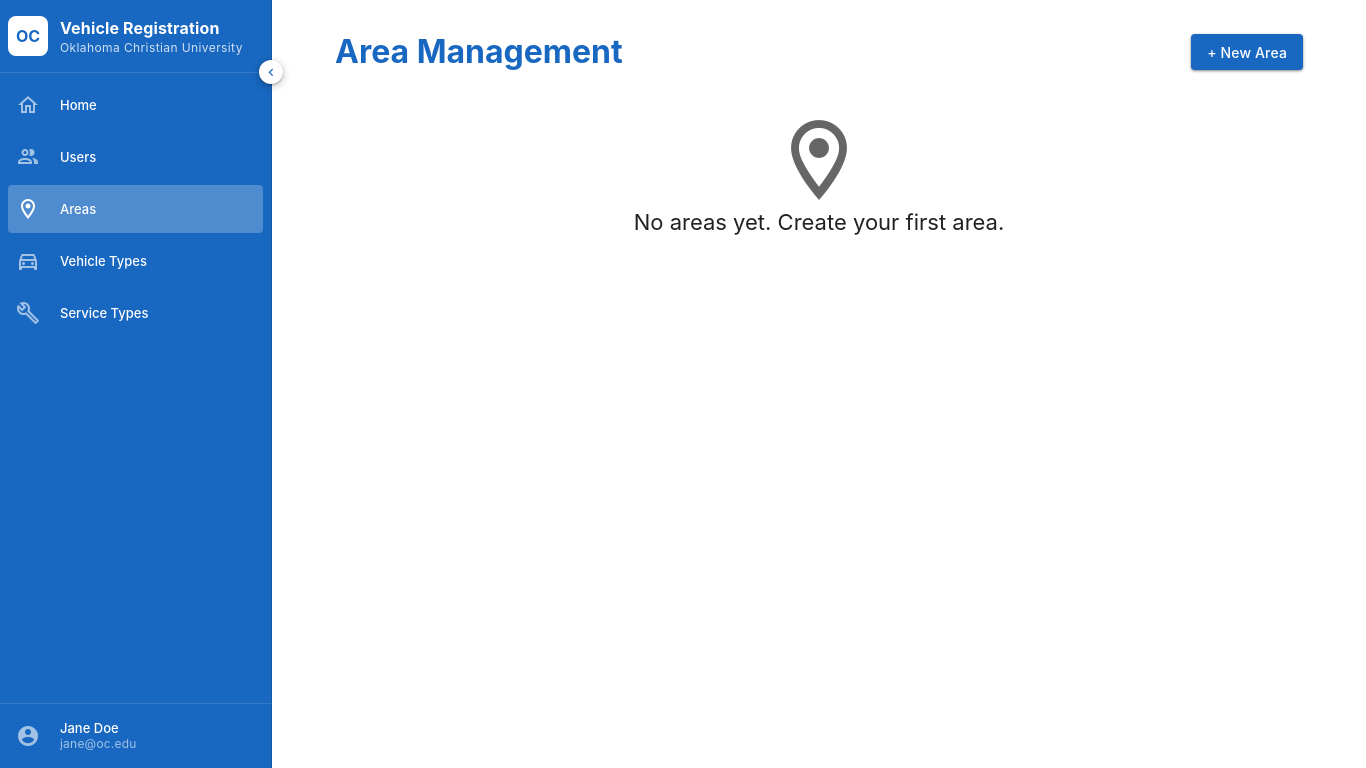
it: Feature 2 — Area Management › US-2.1 — Create areas › User creates area
Step 1. Click the button "+ New Area" → click(1247, 52), box 1191,34 -> 1303,70
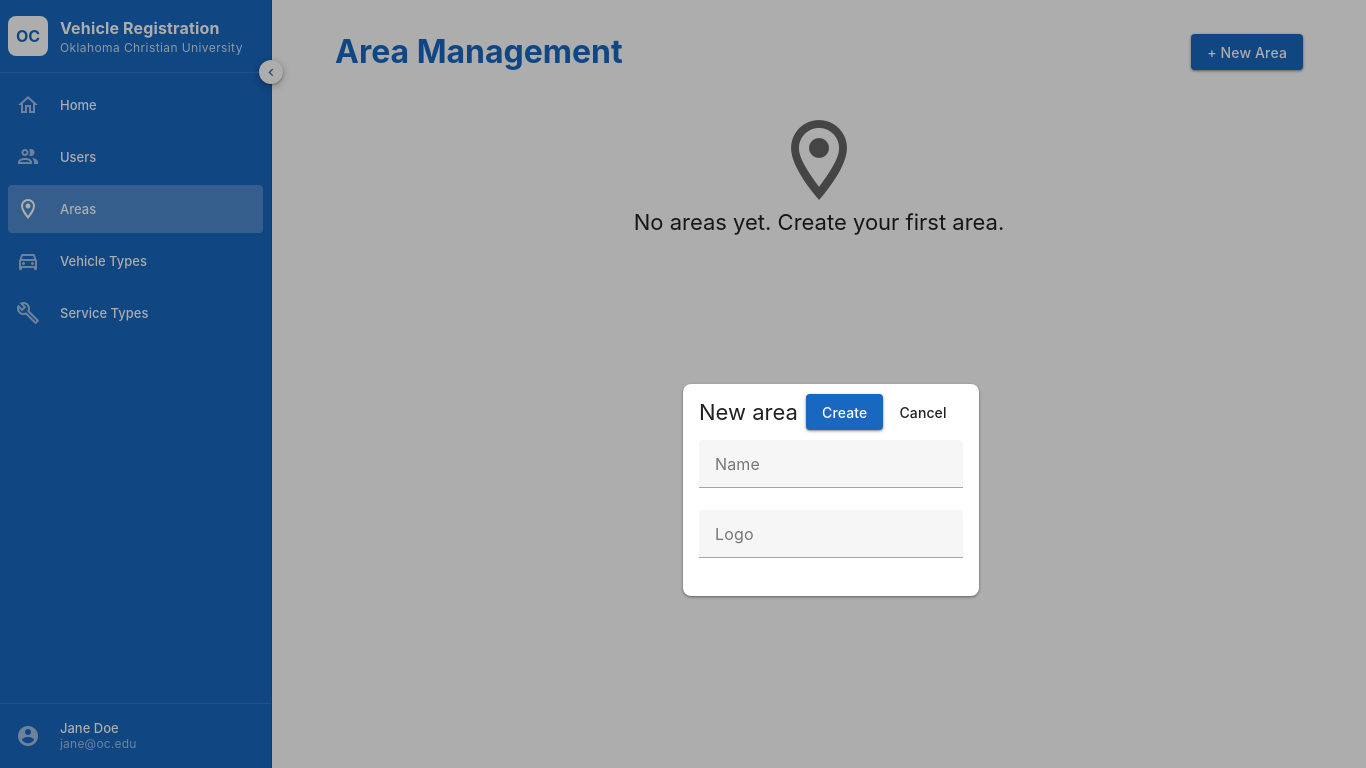
Expected: the text "New Area" is shown, 1207,44 -> 1287,60
Expected: the element showing "Name" is shown, 699,440 -> 963,510
Expected: the element showing "Logo" is shown, 699,510 -> 963,580
